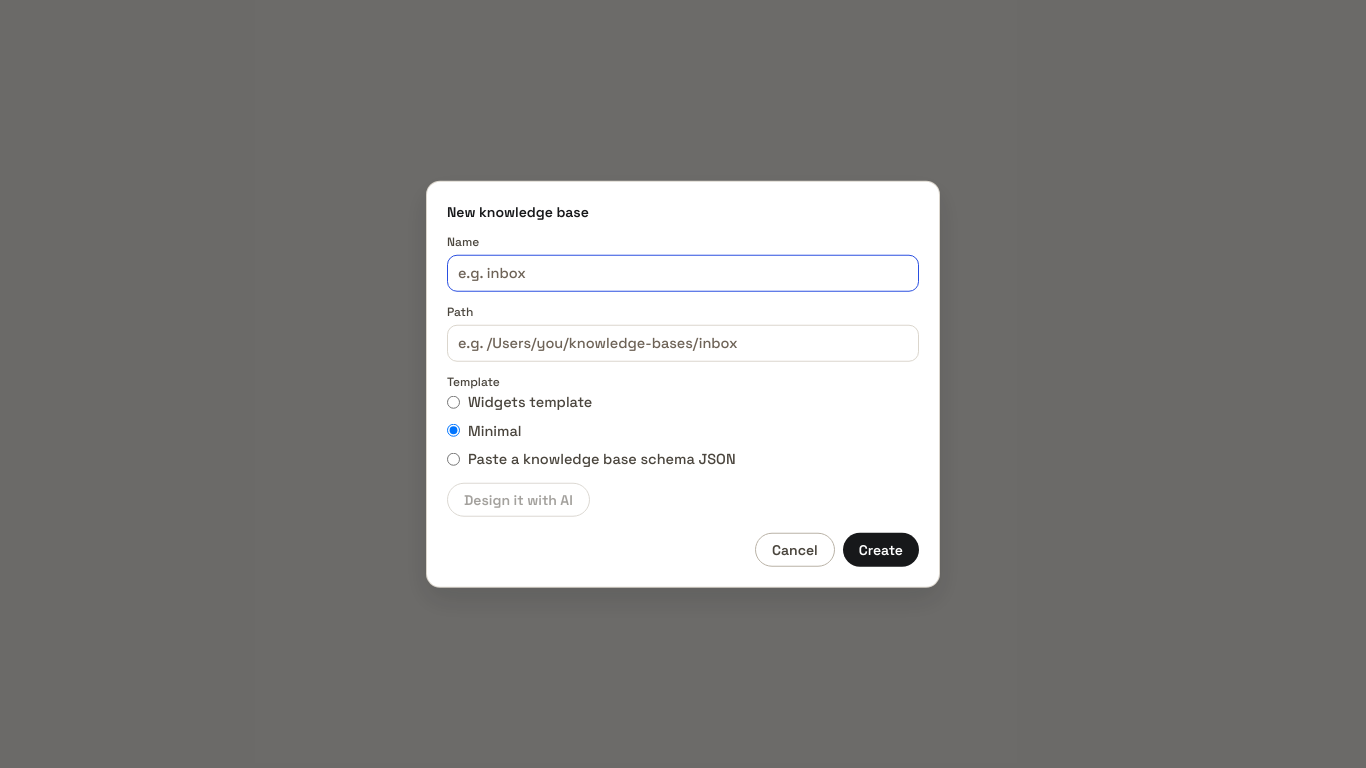
Test: CreateKnowledgeBaseDialog › enables the AI button once a path is entered
In the field labelled "Path": x=683, y=343 [447,325,919,362], type "/knowledge-bases/scratch"
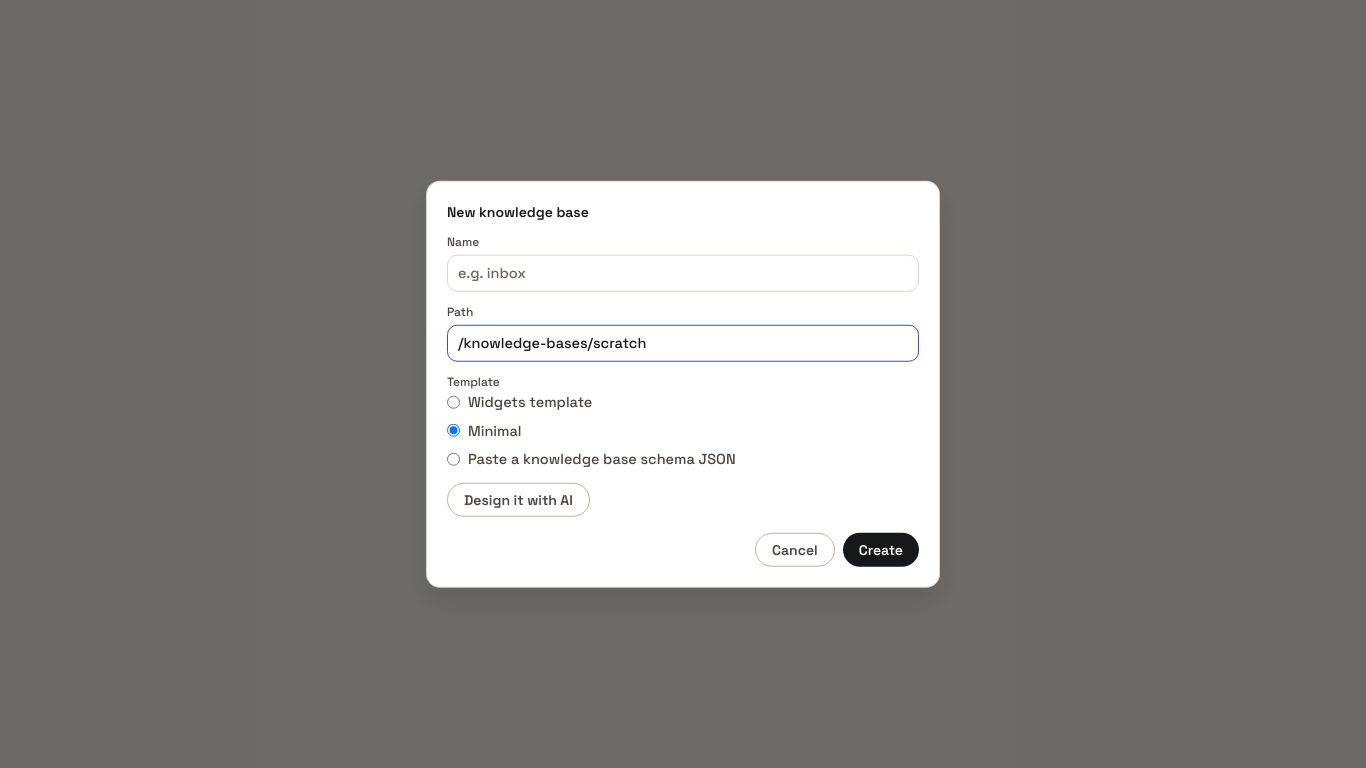
Check: the button "Design it with AI" is enabled, box [447,482,590,516]
